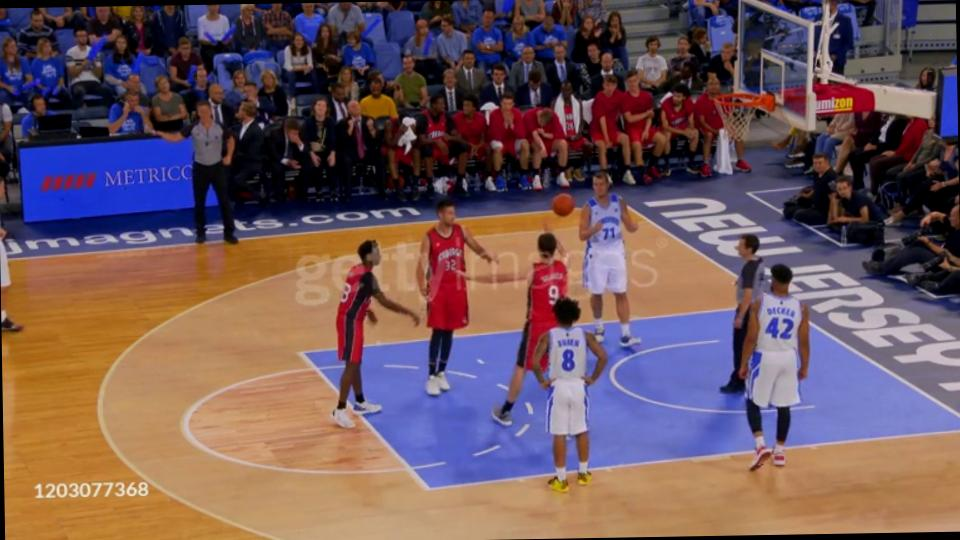hoop: (709, 87, 777, 115)
